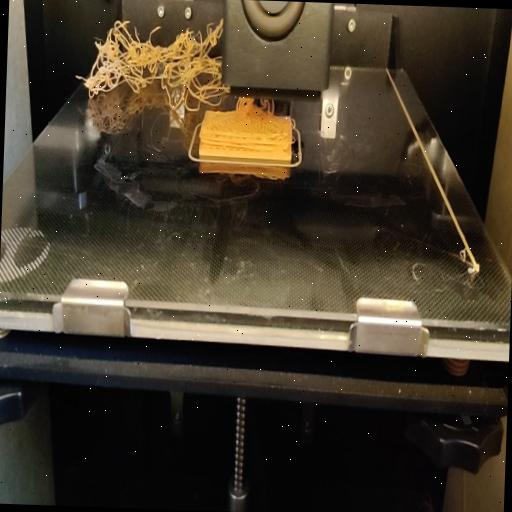spaghetti: (68, 9, 228, 116)
